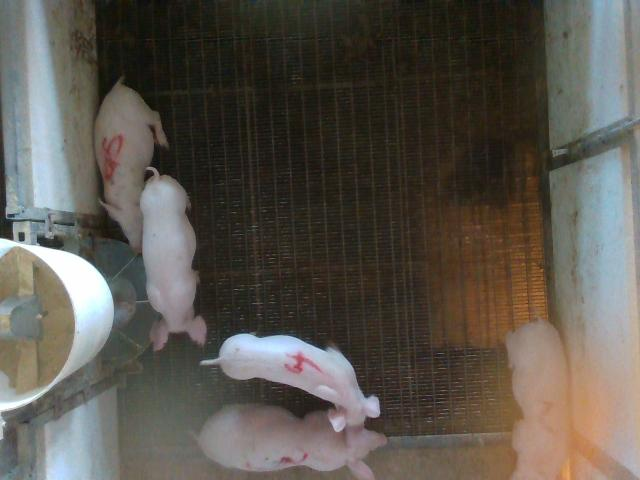pig-2: (506, 319, 569, 478)
pig-3: (196, 405, 386, 479)
pig-4: (201, 334, 380, 432)
pig-5: (94, 76, 169, 252)
